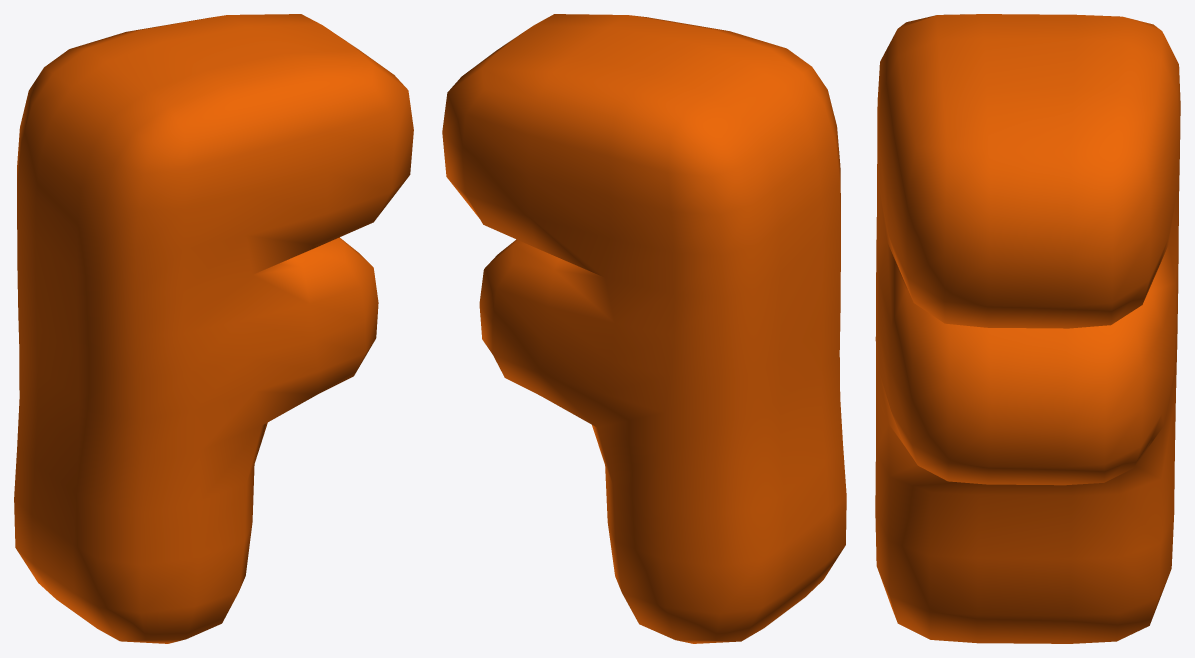
3 views of the same model, side by side, from view 1: azimuth 30°, elevation 25°; view 2: azimuth 150°, elevation 25°; view 3: azimuth 270°, elevation 25° (orthographic). The views are drawn at different scales.
Visible parts, largest first — view 1: Object_16; view 2: Object_16; view 3: Object_16.
Boxes of the visible parts, left/top/right/bottom form: Object_16: left=14, top=14, right=413, bottom=643; Object_16: left=442, top=14, right=846, bottom=643; Object_16: left=875, top=14, right=1180, bottom=643.
Bounding box in the file's own units: 62.97 × 98.64 × 43.79.
